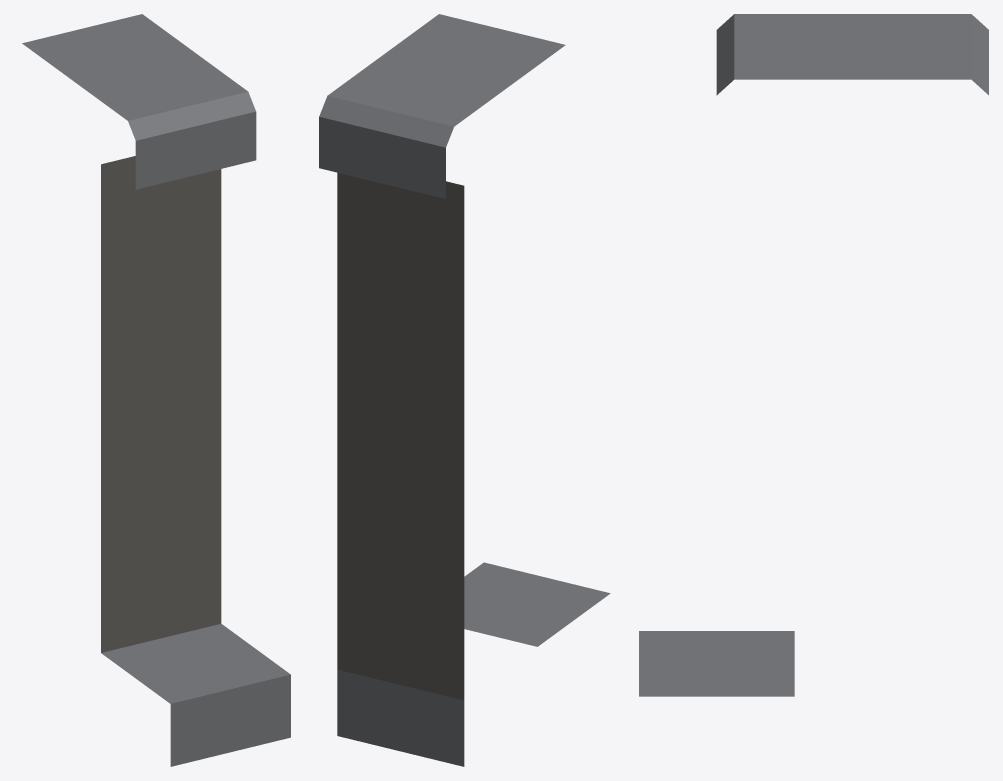
The model's file is SM_Roof_Plug.gltf.
3 renders of one model, left to right at view 1: azimuth 30°, elevation 25°; view 2: azimuth 150°, elevation 25°; view 3: azimuth 270°, elevation 25°, orthographic. The views are drawn at different scales.
Parts seen in each view (by area): view 1: SM_Roof_Plug; view 2: SM_Roof_Plug; view 3: SM_Roof_Plug.
Boxes of the visible parts, x1=… form: SM_Roof_Plug: x1=22, y1=14, x2=290, y2=766; SM_Roof_Plug: x1=319, y1=14, x2=610, y2=766; SM_Roof_Plug: x1=639, y1=14, x2=988, y2=696.
Size of the model in its own units: 0.2 by 0.9755 by 0.45.
Materials: 1 (1 with a texture image).
